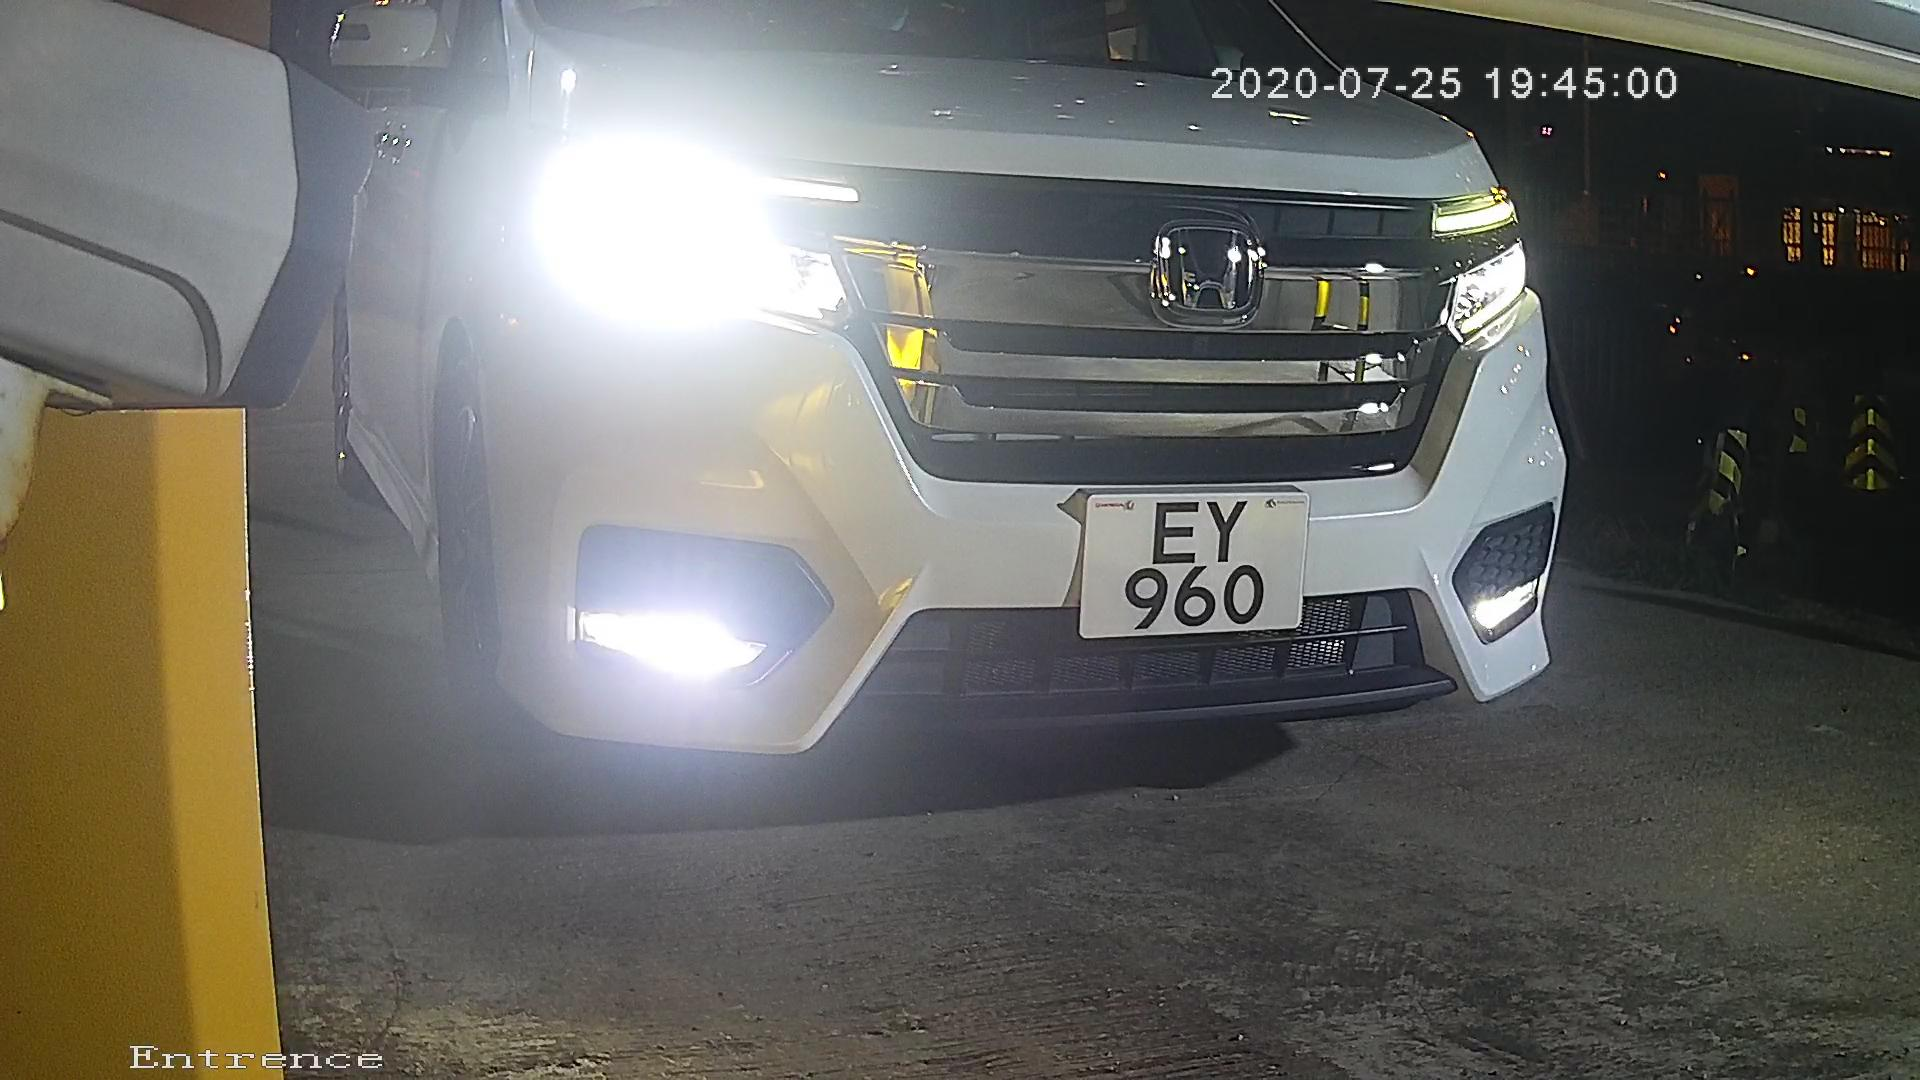License Plate: (1063, 478, 1329, 656)
